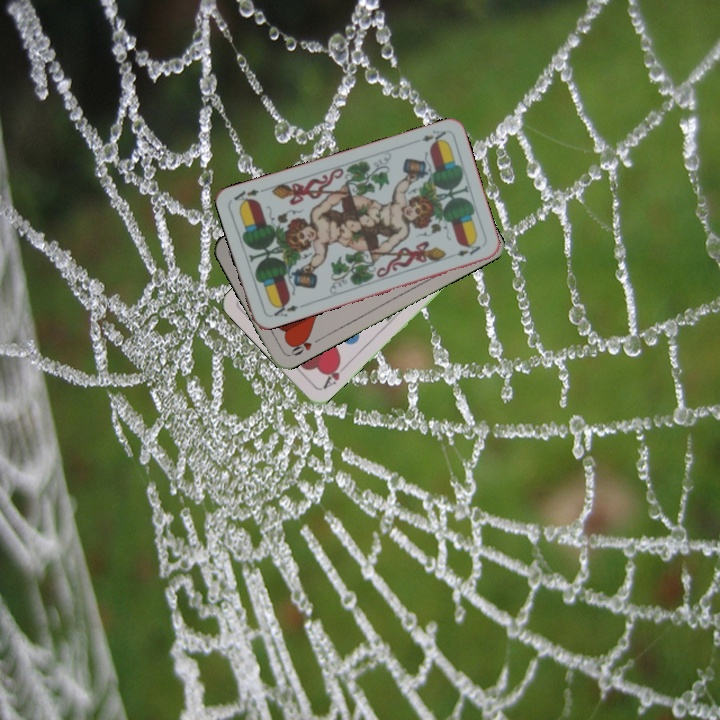EA: (266, 298, 301, 320), (418, 126, 448, 147)
HA: (318, 357, 350, 392)
HO: (286, 332, 324, 358)
